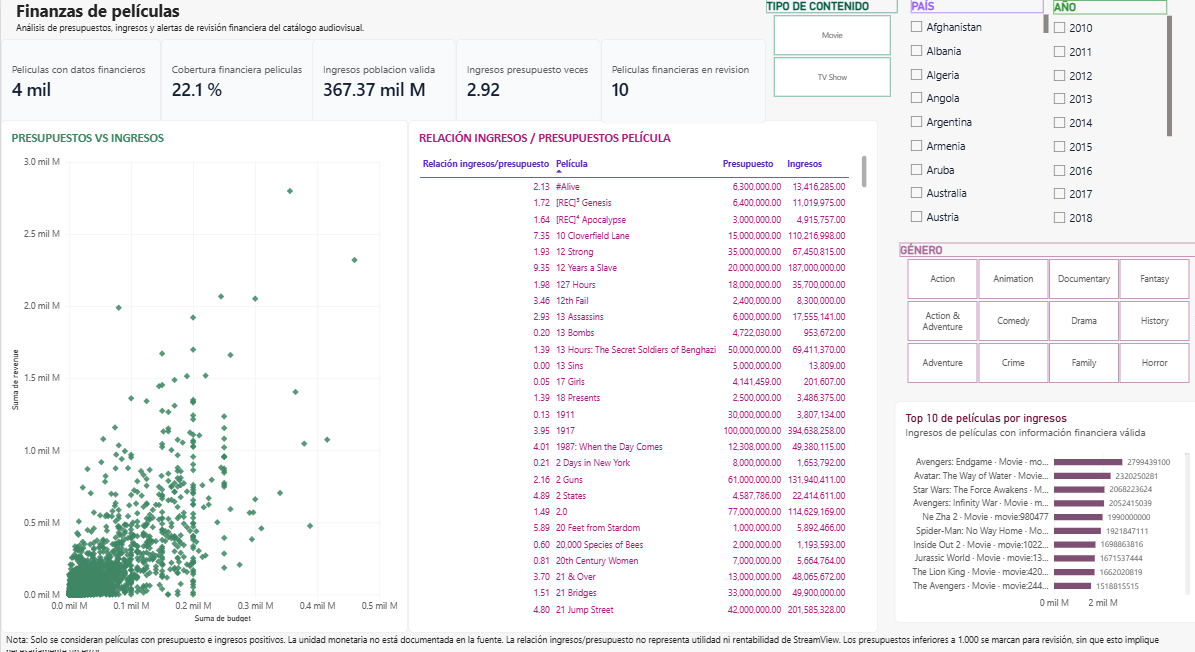

This screenshot's page, from the dashboard's own definition file:
{"tool":"powerbi","page":{"name":"Finanzas","canvas":[1920,1080],"ordinal":3},"visuals":[{"type":"slicer","fields":{"Values":["dim_generos.genre"]},"box":[1429.6,389.1,490.4,226.2],"z":0},{"type":"slicer","fields":{"Values":["catalogo.type"]},"box":[1216,0,226,158],"z":1000},{"type":"slicer","fields":{"Values":["dim_paises.country"]},"box":[1447.7,0,228,365.6],"z":2000},{"type":"slicer","fields":{"Values":["dim_anio_estreno.release_year"]},"box":[1675.7,1.8,197.3,367.4],"z":3000},{"type":"cardVisual","fields":{"Data":["catalogo.Peliculas con datos financieros"]},"box":[0,63.3,257,135.7],"z":4000},{"type":"cardVisual","fields":{"Data":["catalogo.Cobertura financiera peliculas"]},"box":[257,63.3,249.7,135.7],"z":5000},{"type":"cardVisual","fields":{"Data":["catalogo.Ingresos poblacion valida"]},"box":[497.7,63.3,229.8,135.7],"z":6000},{"type":"cardVisual","fields":{"Data":["catalogo.Ingresos presupuesto veces"]},"box":[727.5,63.3,231.6,135.7],"z":7000},{"type":"scatterChart","title":"PRESUPUESTOS VS INGRESOS","fields":{"Category":["contenido_genero.content_id"],"X":["Sum(catalogo.budget)"],"Y":["Sum(catalogo.revenue)"]},"box":[0,193.6,651.5,819.8],"z":8000},{"type":"tableEx","title":"RELACIÓN INGRESOS / PRESUPUESTOS PELÍCULA","fields":{"Values":["catalogo.revenue_budget_ratio","catalogo.title","Sum(catalogo.budget)","Sum(catalogo.revenue)"]},"box":[651.5,193.6,751,819.8],"z":9000},{"type":"cardVisual","fields":{"Data":["catalogo.Peliculas financieras en revision"]},"box":[959.1,63.3,264.2,135.7],"z":9001},{"type":"textbox","box":[23.5,0,582.7,67],"z":9002},{"type":"textbox","box":[7.2,1013.4,1865.8,67],"z":9003},{"type":"barChart","title":"Top 10 de películas por ingresos","fields":{"Category":["catalogo.Etiqueta contenido"],"Y":["catalogo.Ingresos poblacion valida"]},"box":[1430,644,490,354],"z":9004}]}

Visuals, with their boxes on the page's 1920x1080 design canvas (x1, y1, x2, y2). These are canvas units, not pixel positions in the 1195x652 screenshot, which may show the page scaled, cropped or inside an application window:
slicer - dim_generos.genre: bbox(1430, 389, 1920, 615)
slicer - catalogo.type: bbox(1216, 0, 1442, 158)
slicer - dim_paises.country: bbox(1448, 0, 1676, 366)
slicer - dim_anio_estreno.release_year: bbox(1676, 2, 1873, 369)
cardVisual - catalogo.Peliculas con datos financieros: bbox(0, 63, 257, 199)
cardVisual - catalogo.Cobertura financiera peliculas: bbox(257, 63, 507, 199)
cardVisual - catalogo.Ingresos poblacion valida: bbox(498, 63, 728, 199)
cardVisual - catalogo.Ingresos presupuesto veces: bbox(728, 63, 959, 199)
"PRESUPUESTOS VS INGRESOS" scatterChart: bbox(0, 194, 652, 1013)
"RELACIÓN INGRESOS / PRESUPUESTOS PELÍCULA" tableEx: bbox(652, 194, 1402, 1013)
cardVisual - catalogo.Peliculas financieras en revision: bbox(959, 63, 1223, 199)
textbox: bbox(24, 0, 606, 67)
textbox: bbox(7, 1013, 1873, 1080)
"Top 10 de películas por ingresos" barChart: bbox(1430, 644, 1920, 998)
